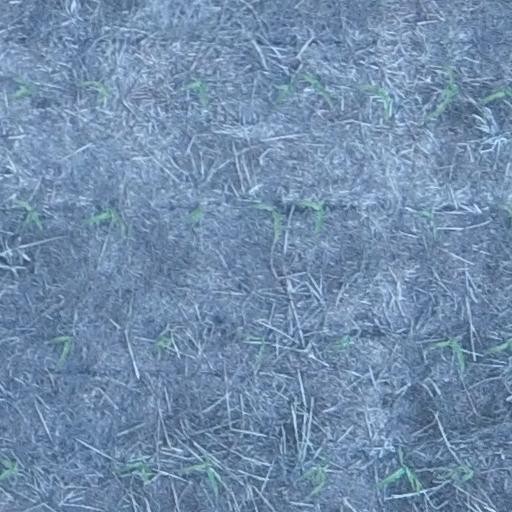planta: (373, 448, 423, 493), (427, 65, 459, 119), (184, 455, 217, 491), (359, 83, 391, 118), (253, 203, 283, 239), (432, 337, 464, 368), (299, 73, 332, 103), (298, 198, 325, 233), (303, 461, 329, 493), (87, 209, 124, 228), (16, 199, 41, 227), (80, 81, 110, 102), (186, 77, 209, 103), (245, 333, 264, 364), (441, 465, 473, 481), (54, 335, 72, 363), (129, 462, 153, 483), (10, 79, 32, 98), (276, 83, 294, 101), (154, 336, 172, 349), (334, 336, 351, 349), (191, 205, 203, 223), (420, 210, 432, 218)
